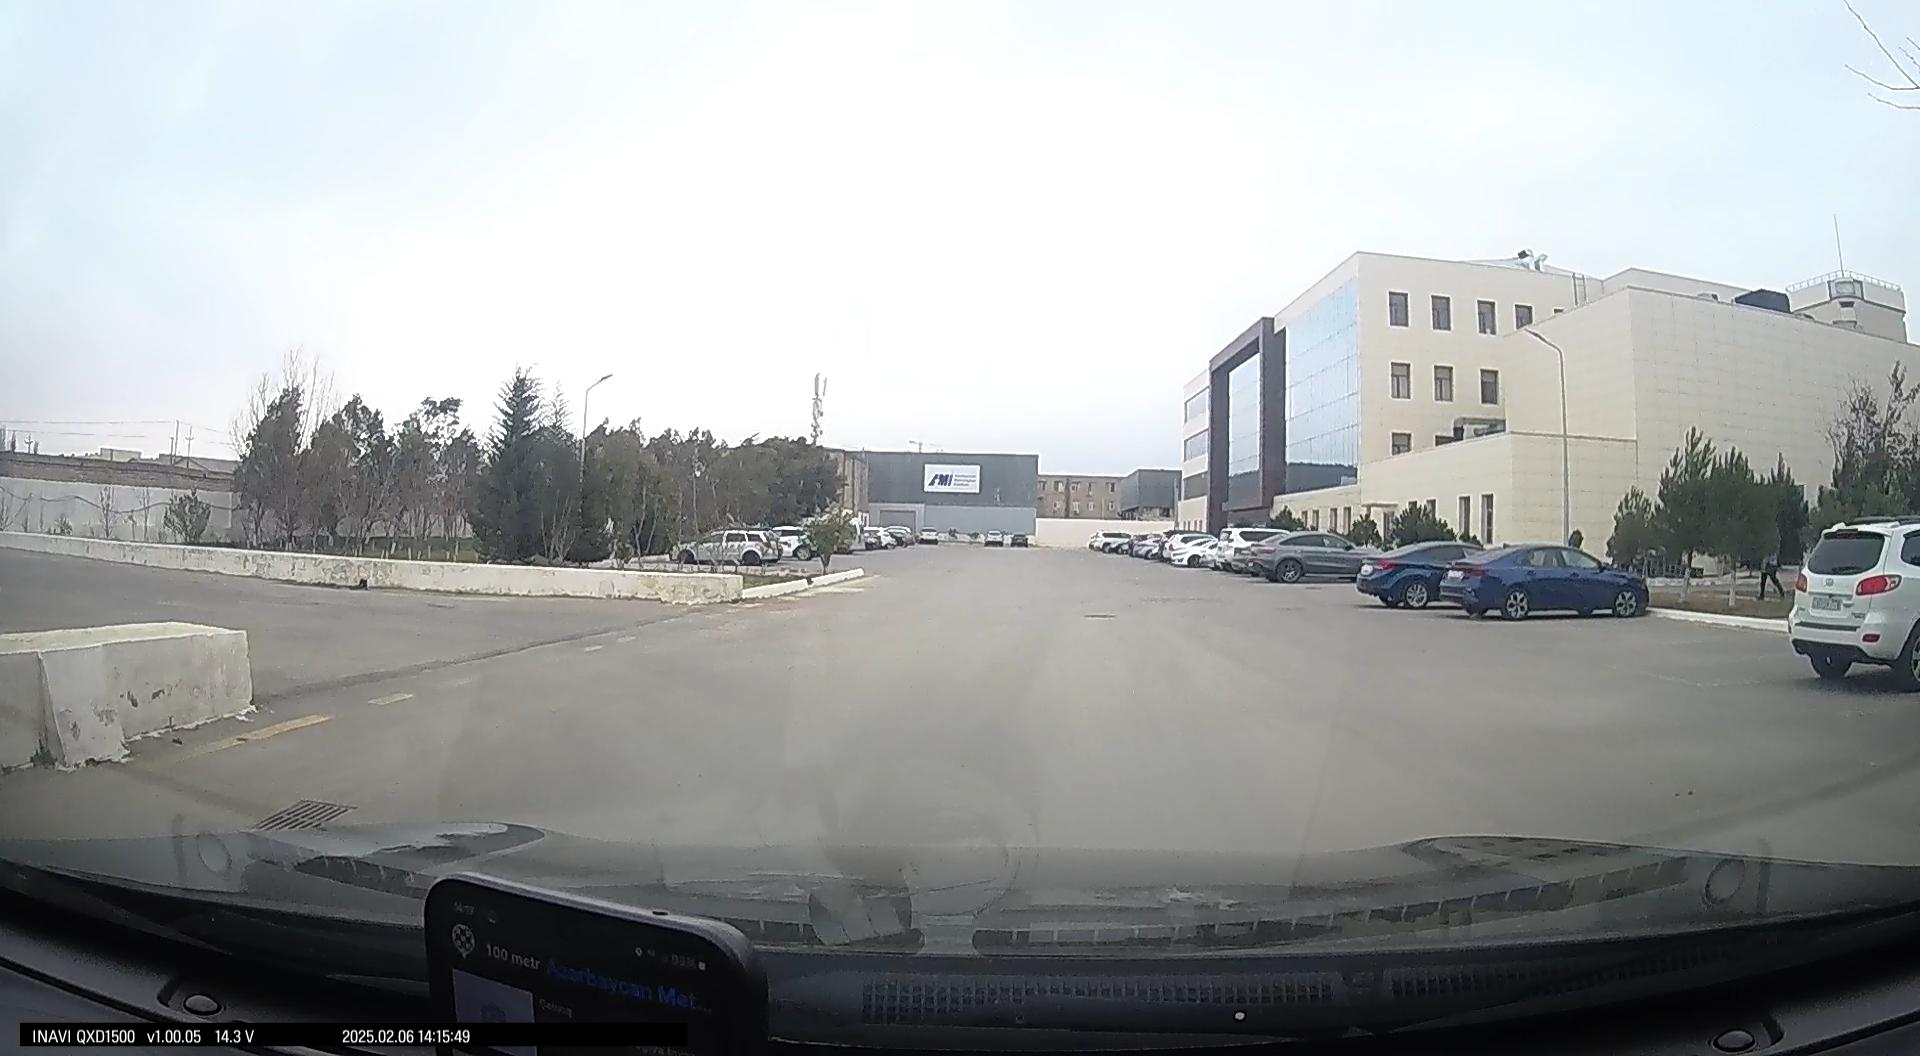banner: (924, 462, 984, 496)
